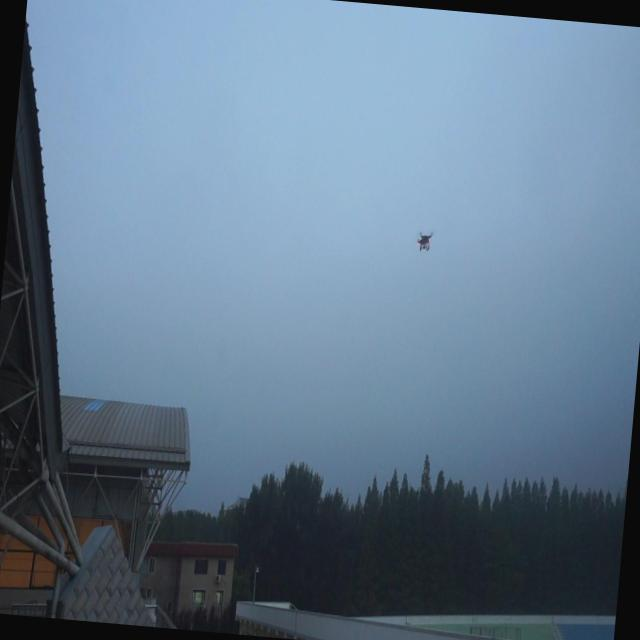drone: (414, 230, 434, 256)
